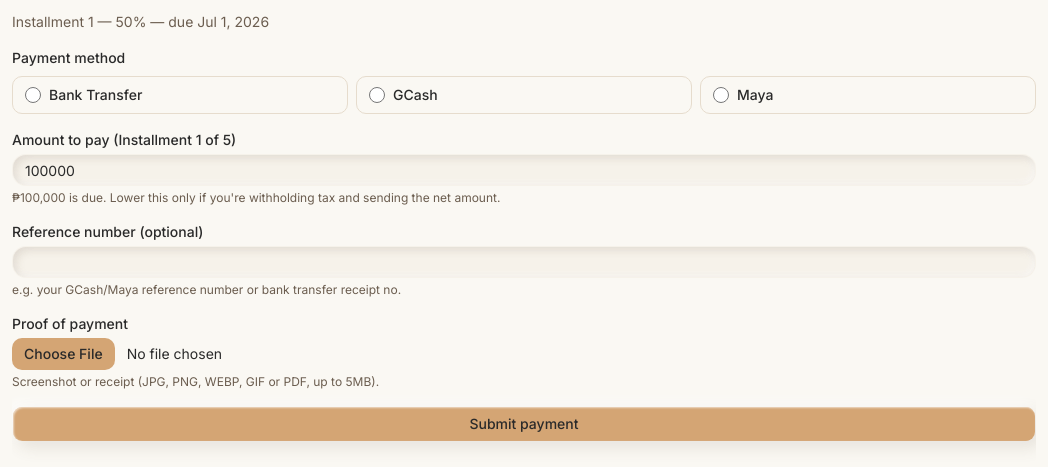
Test case: PaymentForm — withholding-tax amounts › surfaces the shortfall as the client enters a net-of-tax amount
The width and height of the screenshot is (1048, 467).
Replace the text in the field labelled "Amount to pay (Installment 1 of 5)" with "98000": (524, 170) [12,154,1036,186]
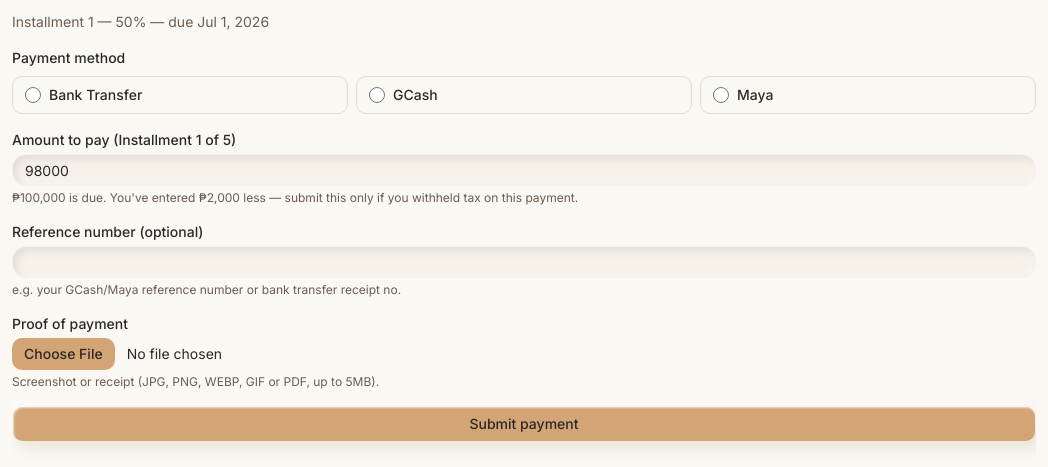
Expected: the text "₱2,000 less" is shown, [12,190,578,205]
